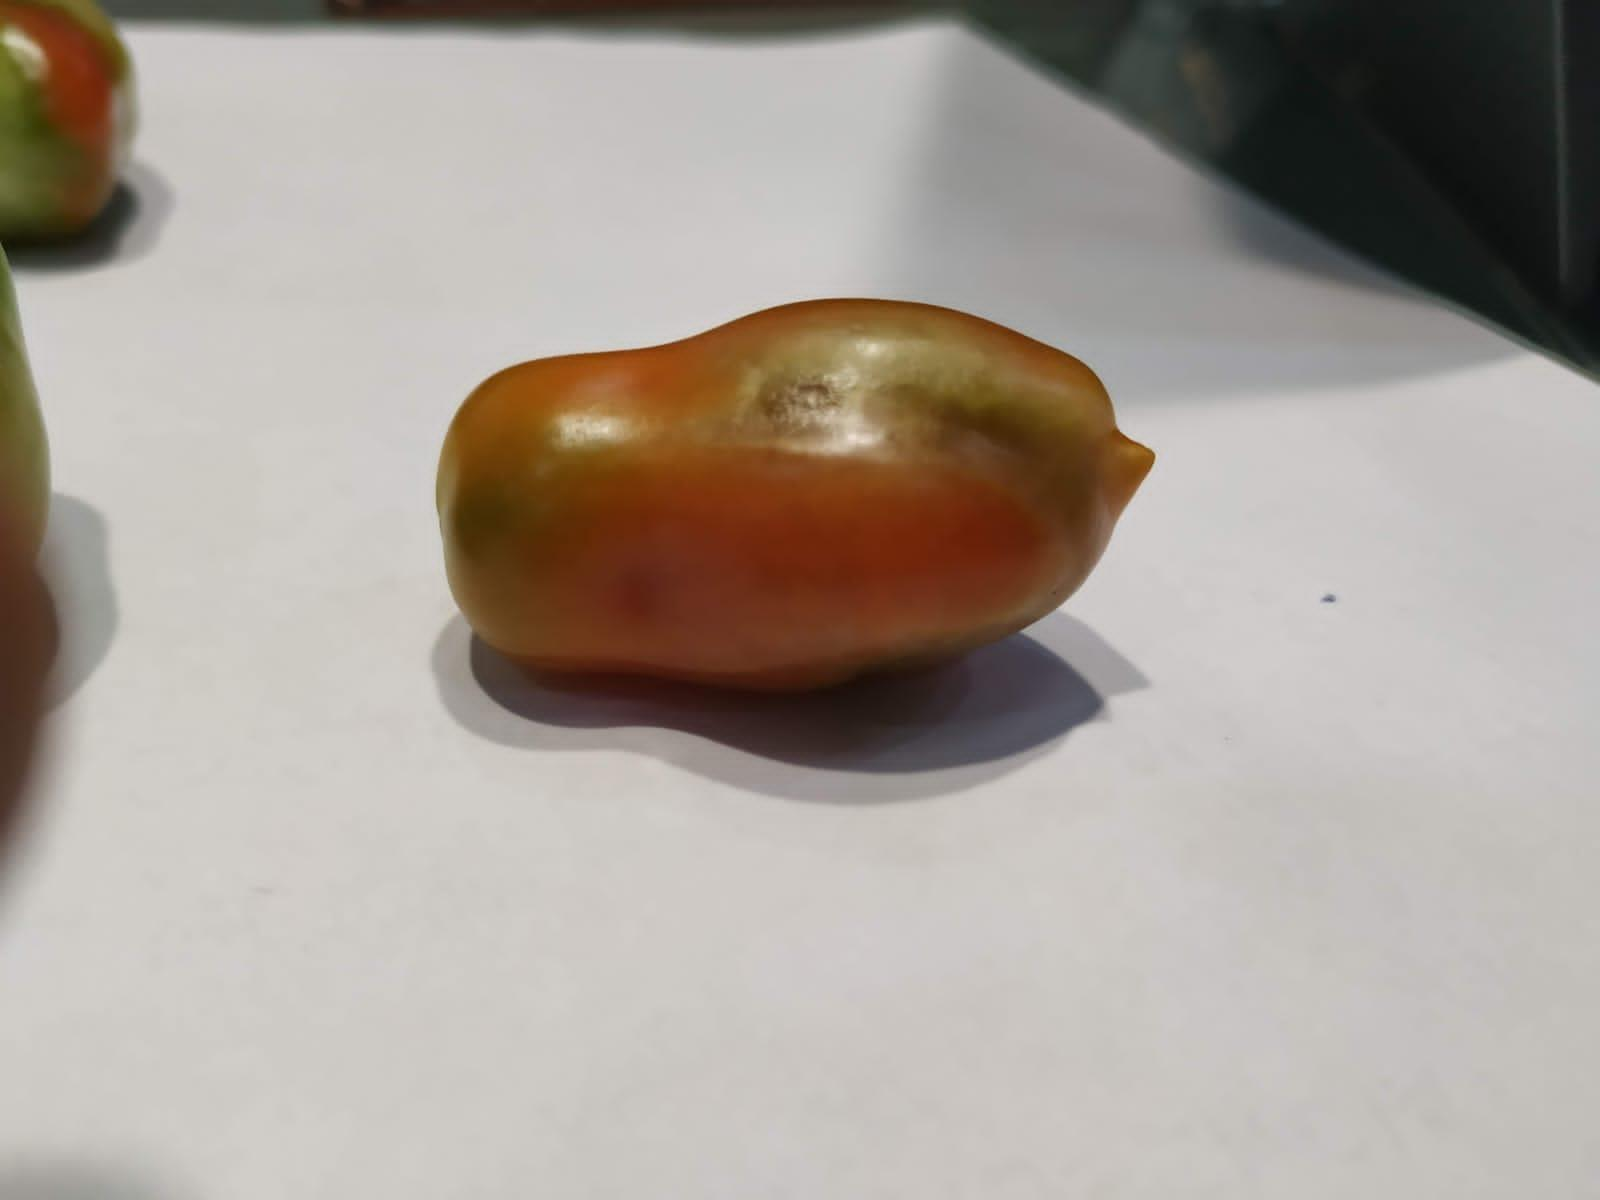Rugose tomato: (435, 297, 1155, 688)
